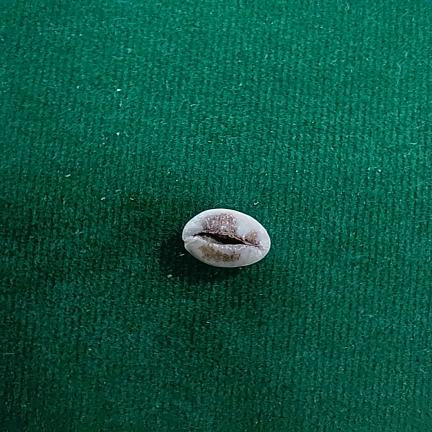immature: (182, 209, 270, 268)
